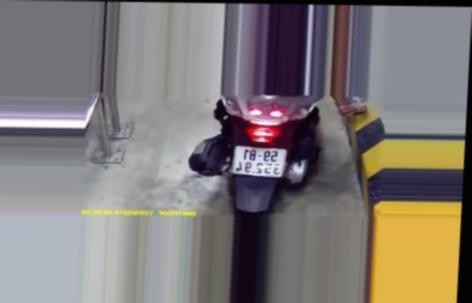License_Plate: (230, 144, 294, 179)
